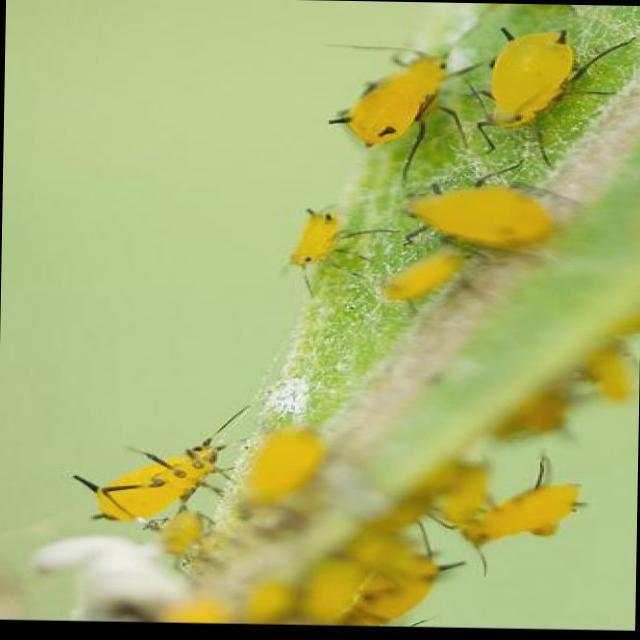aphid: (448, 21, 612, 179), (64, 404, 248, 538), (312, 48, 468, 185), (265, 204, 342, 270)
